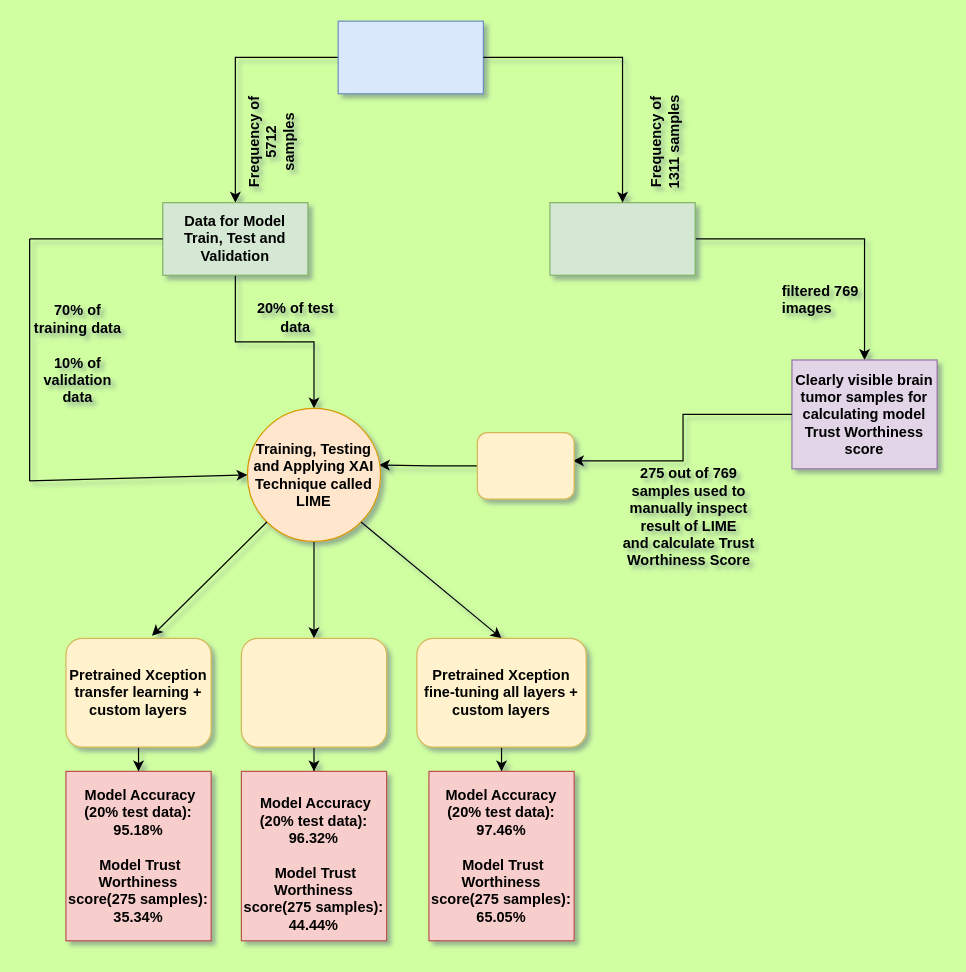
This 966x972 diagram has some shape labels left out. The shapes that lost their labels are listed below. From the top down, each one's centre as x and y in pixels, then its label:
[410,57]: Brain Tumor Classification Image Data
[622,238]: Data For Inspecting Trust worthiness score by Applying LIME
[525,465]: LIME
[313,692]: Pretrained Xception finetuning last 3 layers + custom layers
